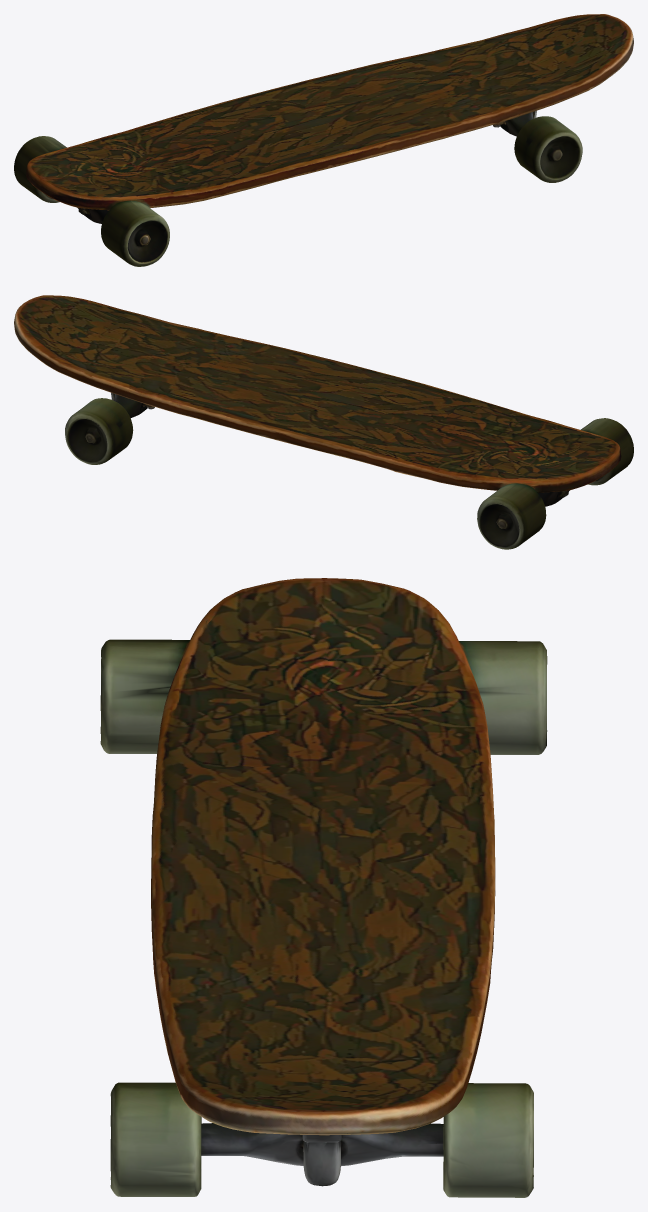
Rendered from CCG_Deck_SpiceDrizzleDrop_web.glb.
3 views of the same model, one above another, from view 1: azimuth 30°, elevation 25°; view 2: azimuth 150°, elevation 25°; view 3: azimuth 270°, elevation 25° (orthographic). The views are drawn at different scales.
Visible parts, largest first — view 1: SM_Deck_SpiceDrizzleDrop; view 2: SM_Deck_SpiceDrizzleDrop; view 3: SM_Deck_SpiceDrizzleDrop.
Boxes of the visible parts, left/top/right/bottom form: SM_Deck_SpiceDrizzleDrop: left=14, top=14, right=633, bottom=266; SM_Deck_SpiceDrizzleDrop: left=14, top=295, right=633, bottom=549; SM_Deck_SpiceDrizzleDrop: left=100, top=578, right=547, bottom=1197.
Bounding box in the file's own units: 0.82 × 0.1277 × 0.2699.
1 material, 1 textured.
